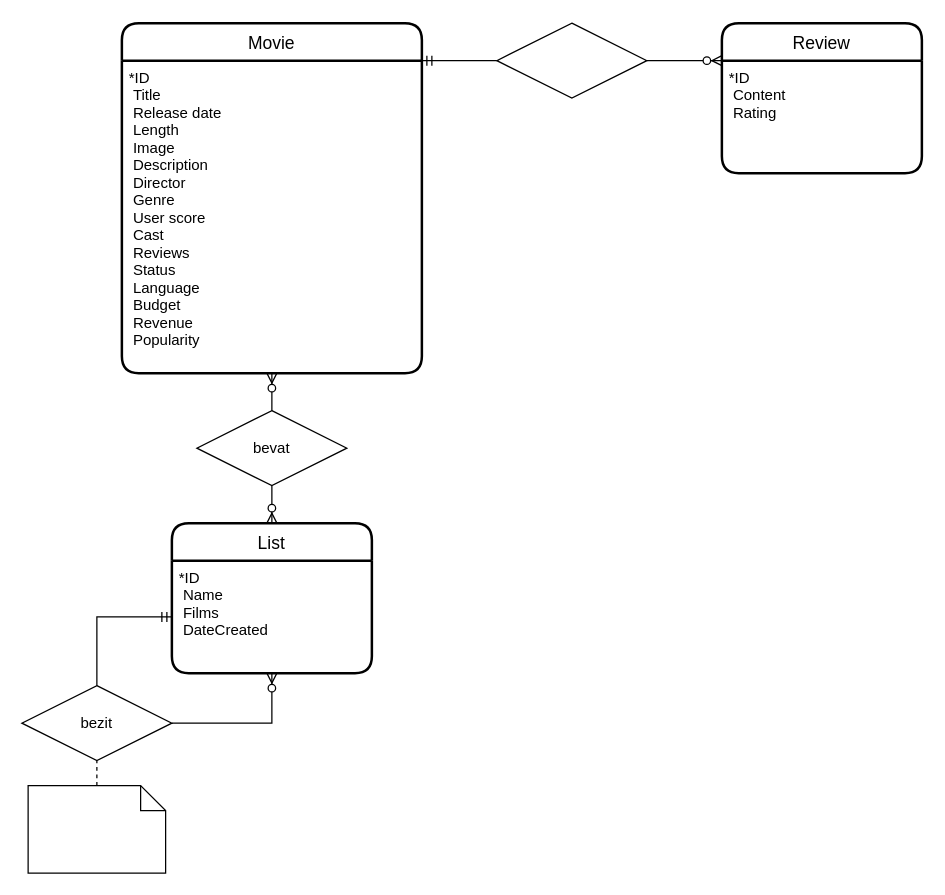
Image size: 945x895. Some labels were removed from this diagram. Here are the shapes that lost their labels. From the top down, the centre of each, then its label:
At (571,60): "heeft".
At (96,828): "Overzicht lijst bevat alle lijsten".
